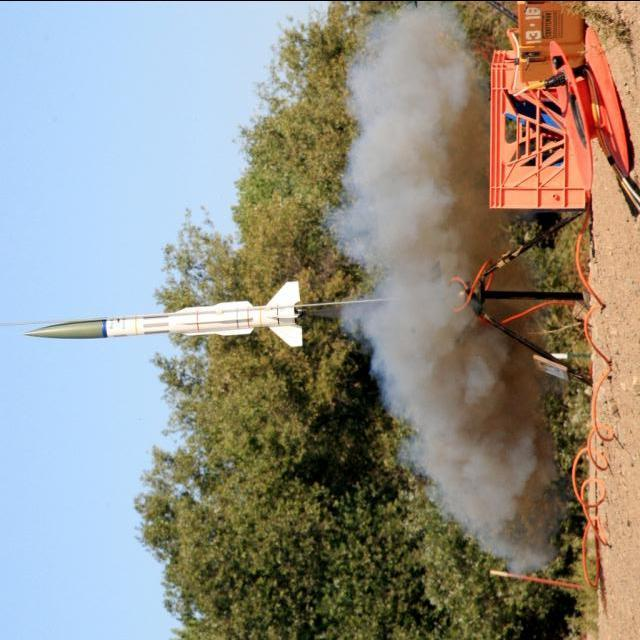missile: (18, 281, 303, 346)
